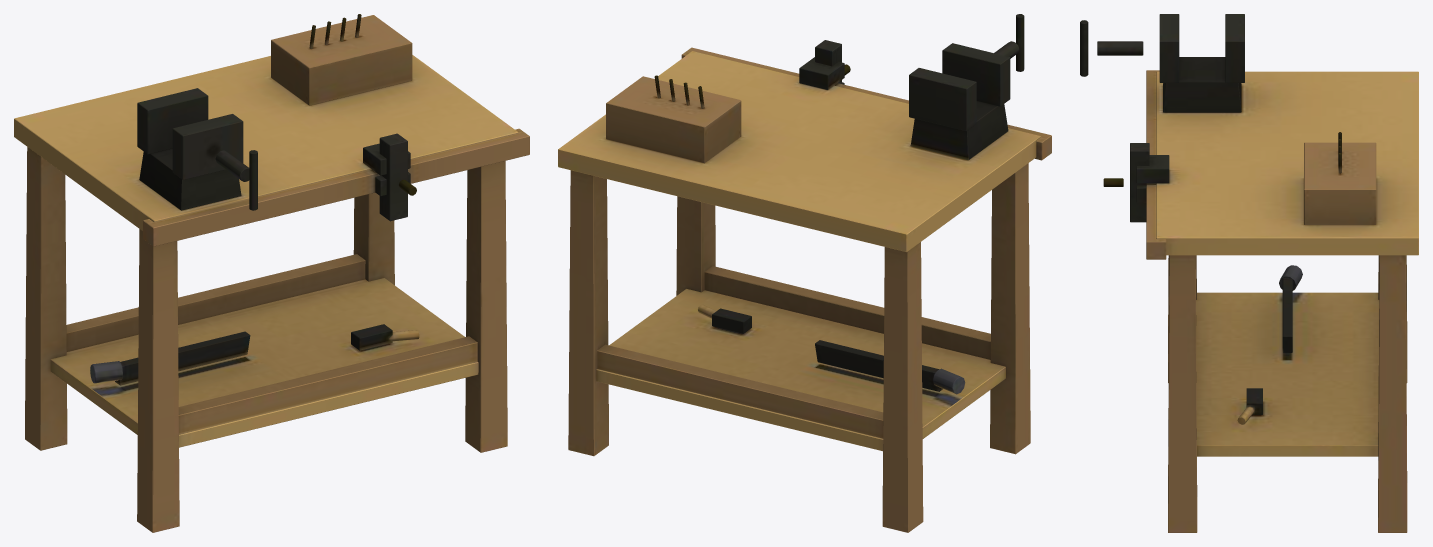
The model's file is DD_workbench1_L0.glb.
3 renders of one model, left to right at view 1: azimuth 30°, elevation 25°; view 2: azimuth 150°, elevation 25°; view 3: azimuth 270°, elevation 25°, orthographic. The views are drawn at different scales.
Parts seen in each view (by area): view 1: DD_workbench1_L0; view 2: DD_workbench1_L0; view 3: DD_workbench1_L0.
Part boxes in pixels (x1=…): DD_workbench1_L0: x1=14, y1=14, x2=529, y2=532; DD_workbench1_L0: x1=558, y1=14, x2=1051, y2=532; DD_workbench1_L0: x1=1080, y1=14, x2=1418, y2=532.
Size of the model in its own units: 1.24 by 1.26 by 1.03.
1 material, 1 textured.
